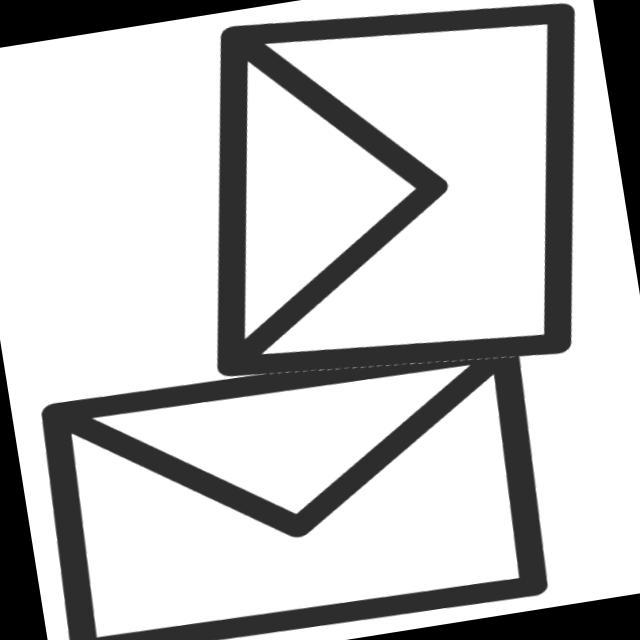letter: (154, 1, 639, 413), (22, 312, 570, 640)
